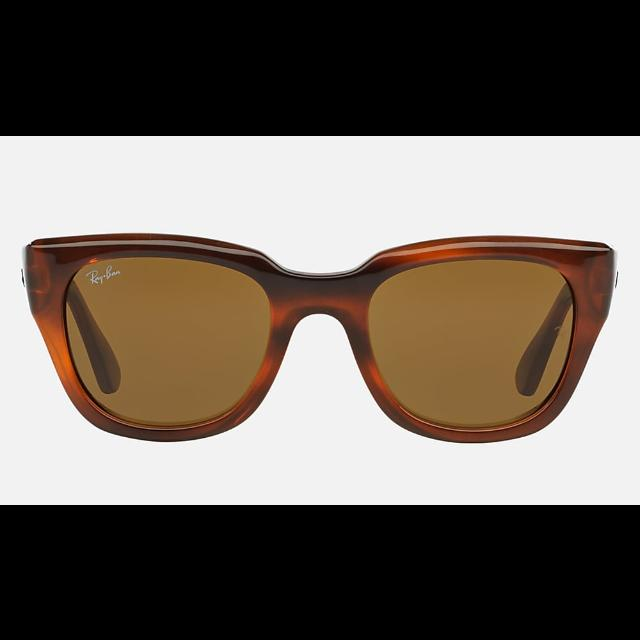Sunglasses: (19, 230, 622, 442)
